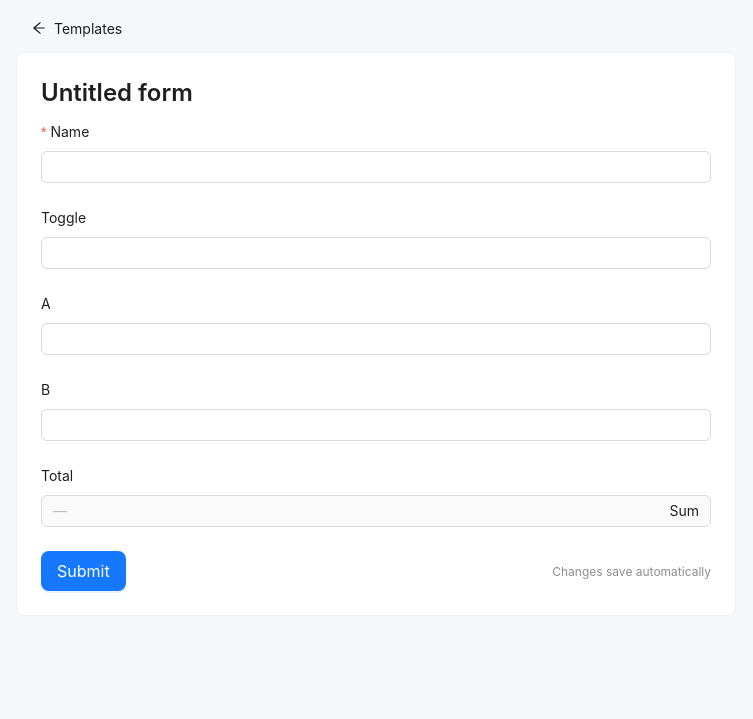
it: FillPage › requires a conditionally-shown required field once it is visible
Step 1. Type "Ada" into the field labelled "Name" → [376, 167], box [41, 151, 711, 183]
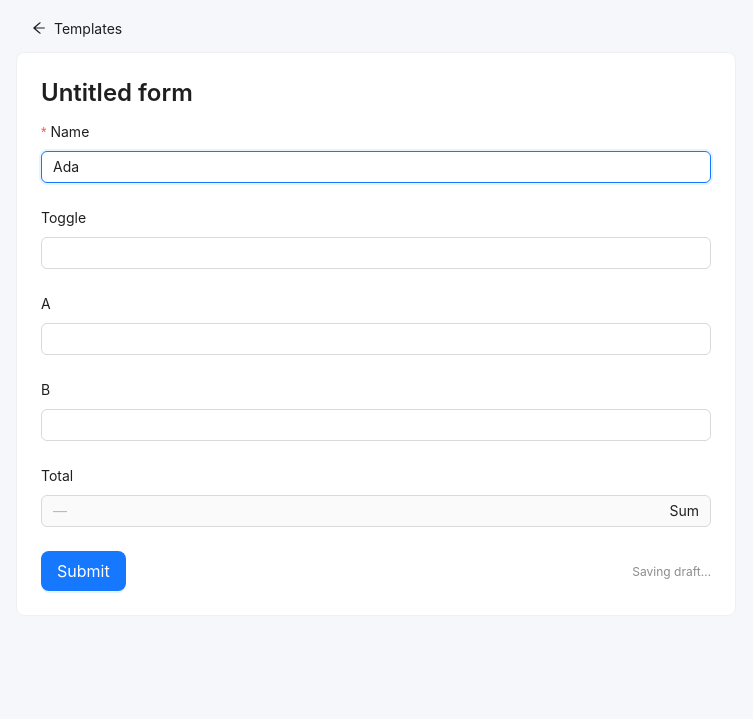
Step 2. Type "yes" into the field labelled "Toggle" → [376, 253], box [41, 237, 711, 269]
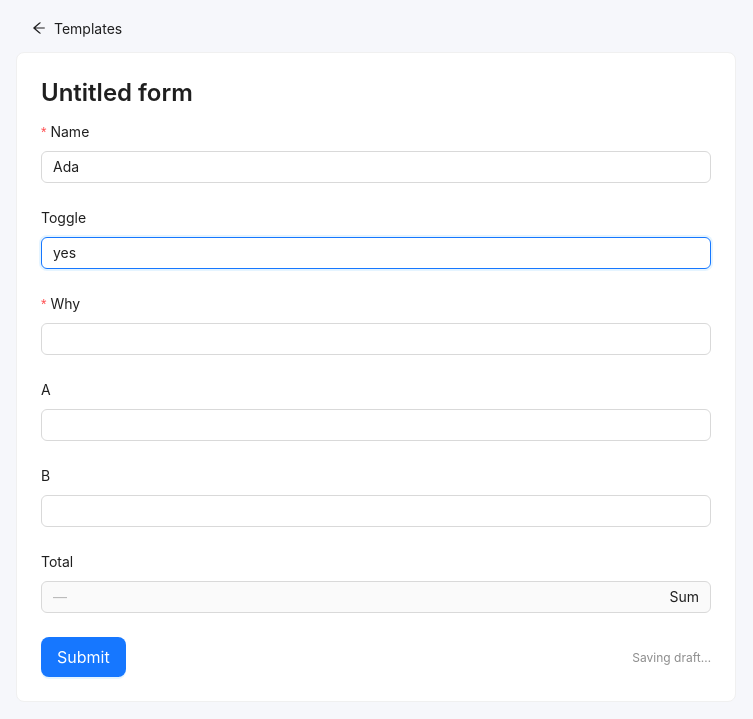
Step 3. Click the button "Submit" → [83, 657], box [41, 637, 126, 677]
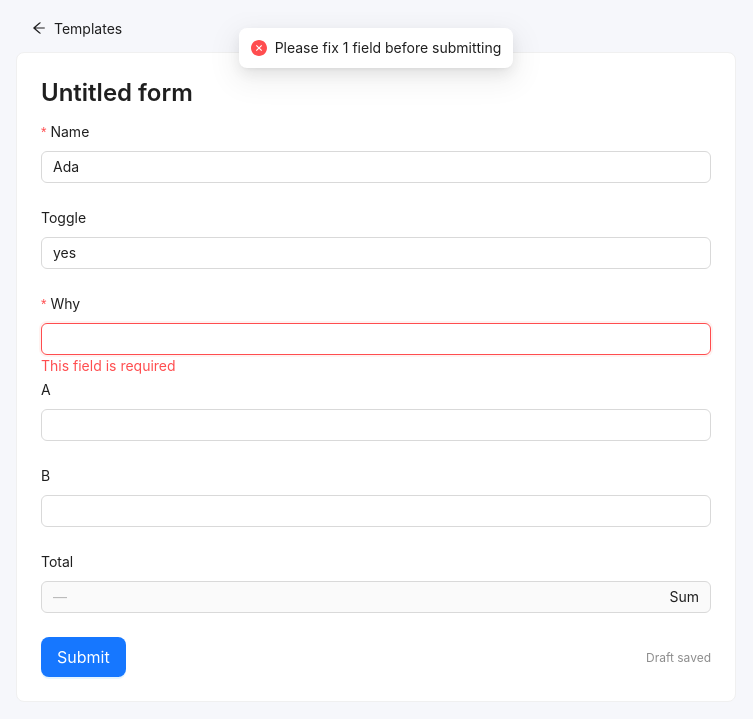
Expected: the text "This field is required" is shown, [41, 357, 176, 374]
